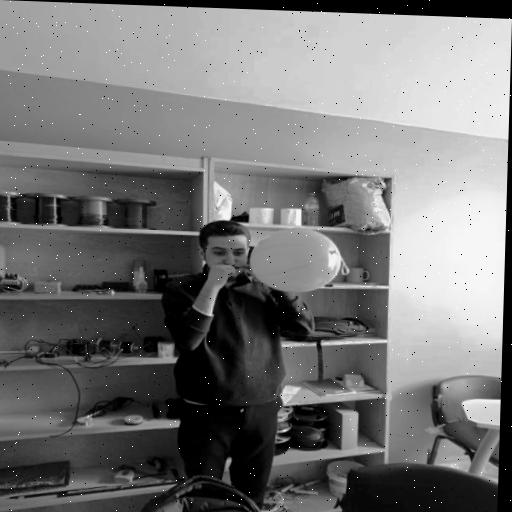balloon: (251, 226, 342, 295)
